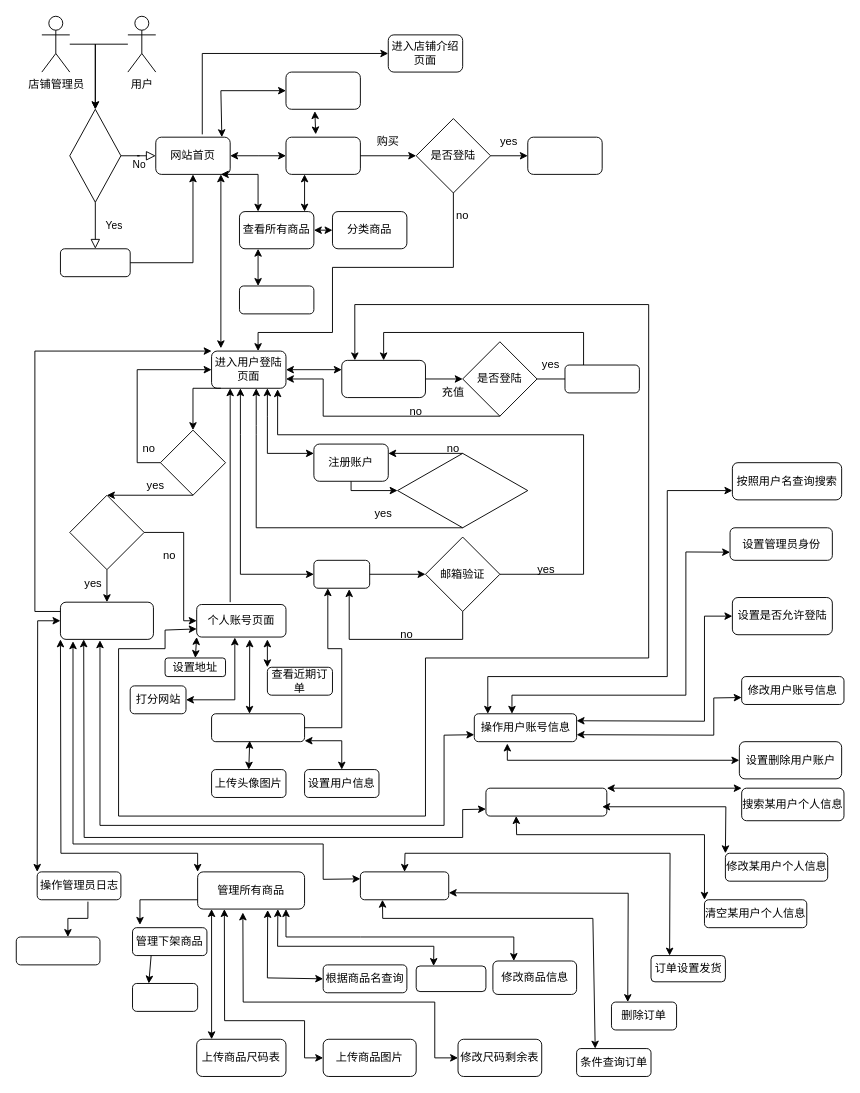
Image size: 860x1093. Some labels were removed from this diagram. The shapes that lost their labels are listed below. From the top down, each one's box as (x1, y1, x2, y2) in pixels, then its label:
(285, 71, 360, 109): 查看商品排行榜
(69, 108, 121, 202): 判断是否初次进入
(285, 136, 360, 174): 查看具体商品
(527, 136, 602, 174): 购买页面
(60, 248, 130, 277): 欢迎页面
(239, 285, 314, 314): 搜索结果页
(341, 359, 425, 398): 加入俱乐部
(564, 364, 639, 393): 付款
(159, 429, 226, 495): 登陆成功
(397, 452, 528, 528): 邮箱密码账户名称合法
(69, 494, 144, 570): 管理员身份
(313, 559, 370, 588): 忘记密码
(60, 601, 153, 639): 管理员系统欢迎页
(211, 713, 305, 742): 账户信息设置
(485, 787, 607, 816): 操作用户个人设置信息
(359, 871, 449, 900): 管理所有订单
(15, 936, 100, 965): 根据管理员姓名和操作时间查询
(132, 983, 198, 1011): 上架商品
(415, 965, 486, 992): 上新商品
